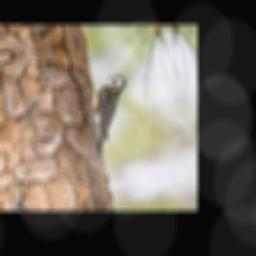Woodpecker: (75, 72, 142, 162)
